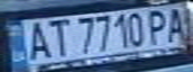0: (124, 9, 148, 47)
1: (109, 11, 133, 48)
7: (72, 15, 96, 54), (93, 12, 115, 52)
A: (21, 19, 54, 61), (160, 4, 190, 43)
P: (145, 7, 175, 45)
T: (42, 17, 72, 57)
